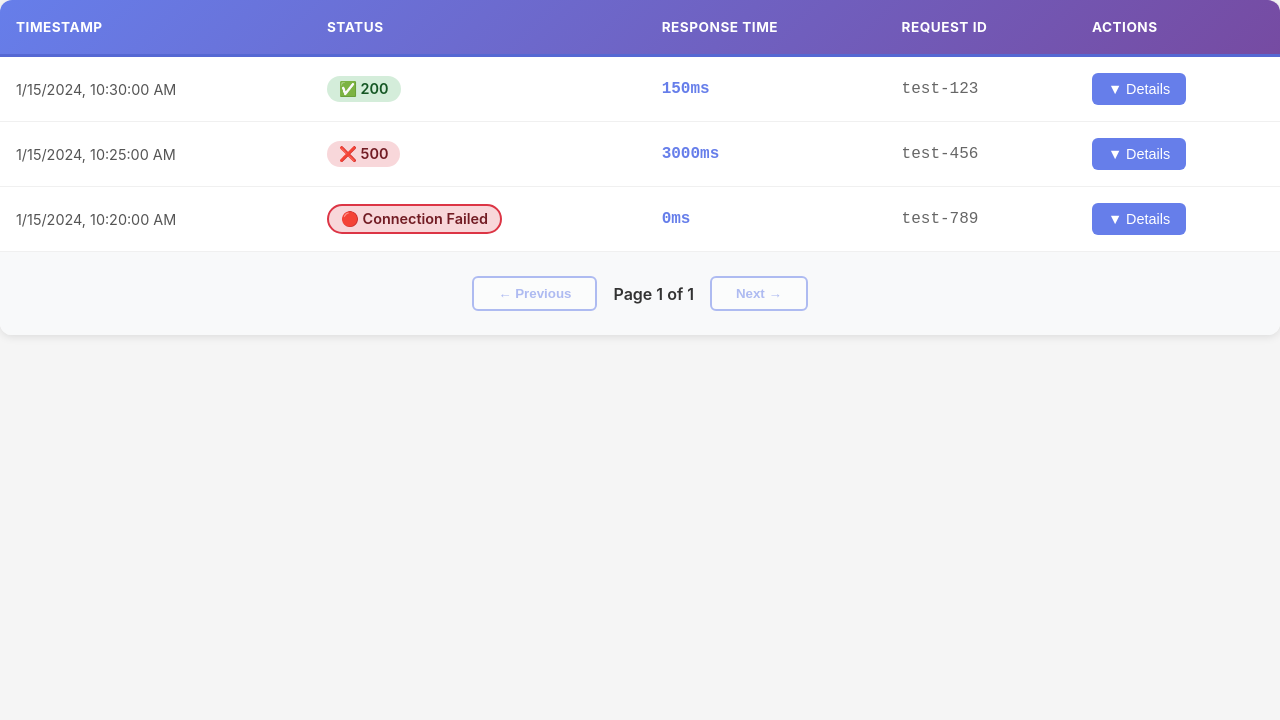
Test: ResponseTable Component › should expand row details when details button clicked
Step 1. Click the button "▼ Details" in the row of "1/15/2024, 10:30:00 AM" → [1139, 89], box [1092,73,1186,105]
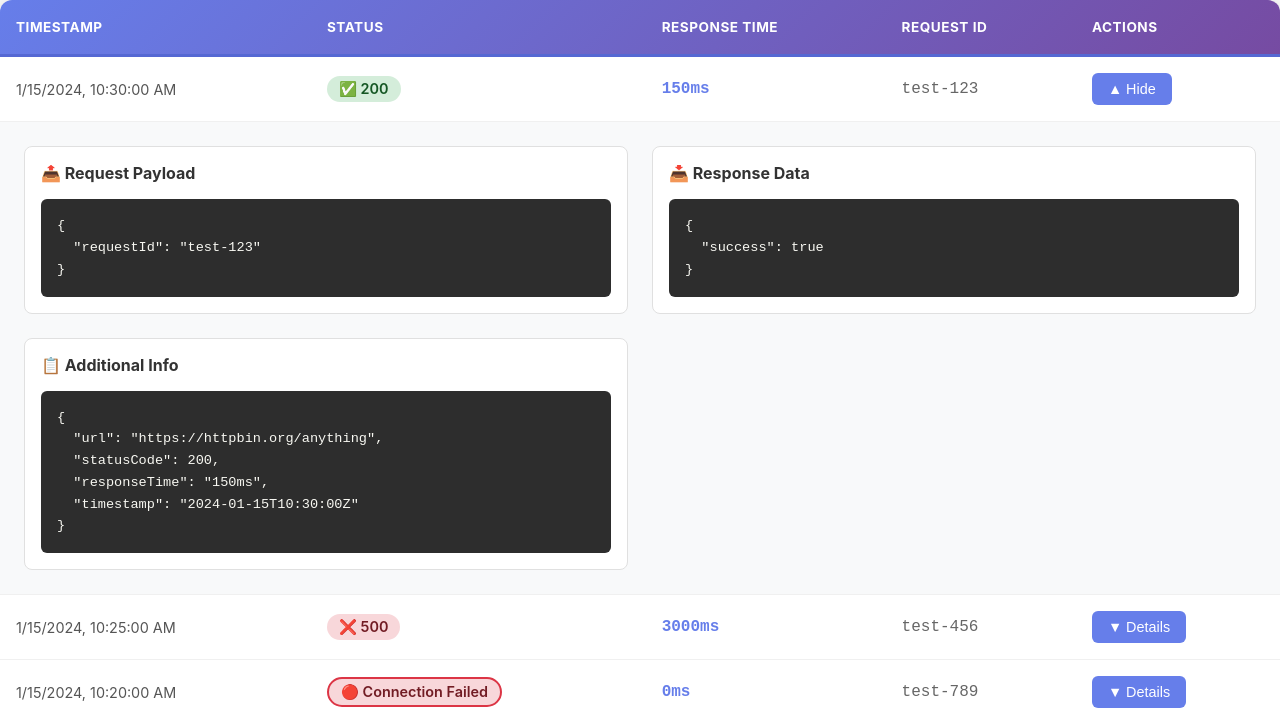
Expected: the heading "📤 Request Payload" is shown, [41,163,195,183]
Expected: the heading "📥 Response Data" is shown, [669,163,810,183]
